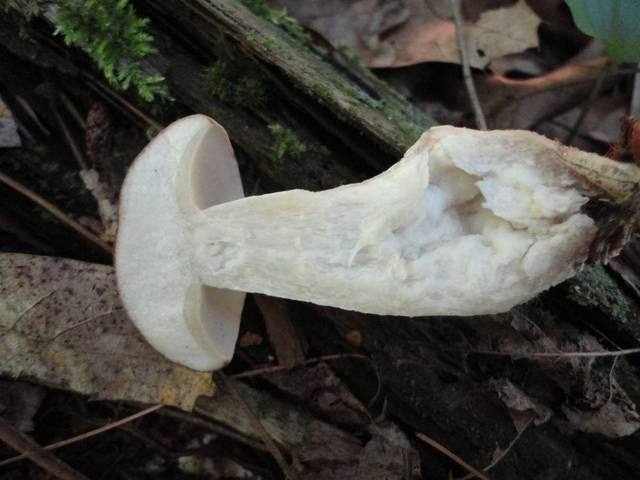Edible Mushroom: (112, 112, 639, 372)
